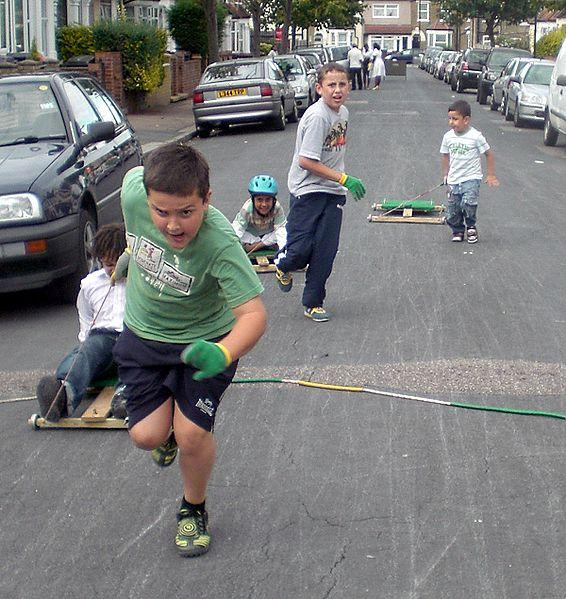Car: (2, 67, 141, 310), (191, 56, 301, 135), (502, 61, 560, 130)
Person: (124, 152, 271, 562), (299, 65, 359, 326), (438, 95, 503, 254)
